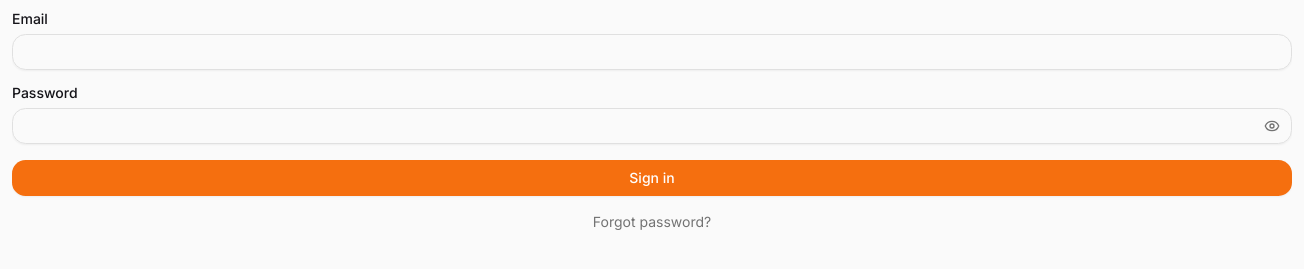
LoginForm 2FA challenge › renders the TOTP challenge screen when login returns challenge_required
The width and height of the screenshot is (1304, 269).
Type "staff@potatocorner.test" into the field labelled "Email". click: x=652, y=52
box: [12,34,1292,70]
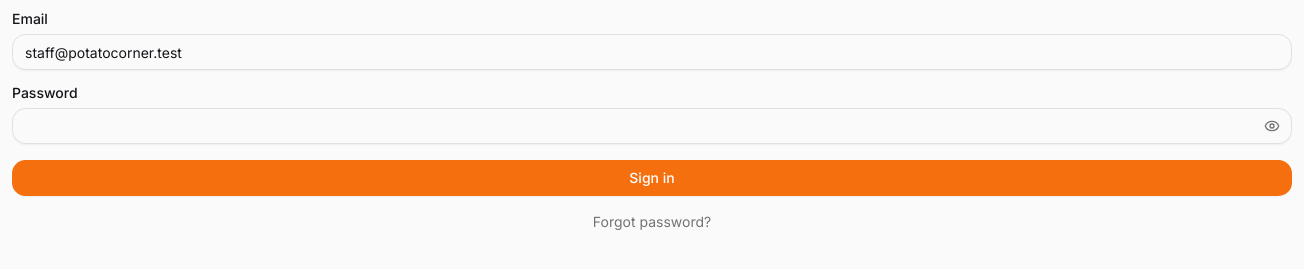
Type "secret123" into the password field labelled "Password". click: x=652, y=126
box: [12,108,1292,144]
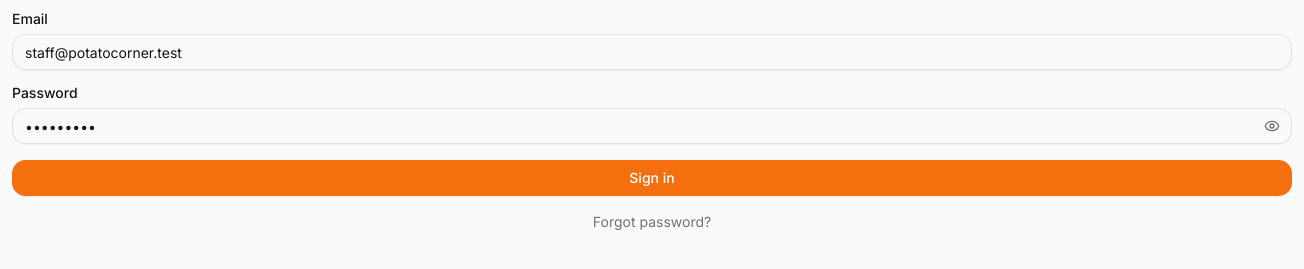
Click the button "Sign in". click: x=652, y=178
box: [12,160,1292,196]
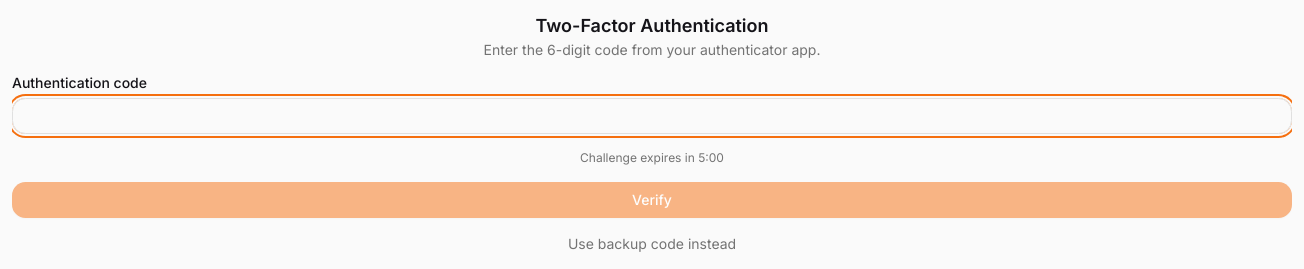
expect the heading "Two-Factor Authentication" is shown: met, box [536,15,769,36]
expect the field labelled "Authentication code" is shown: met, box [12,98,1292,134]
